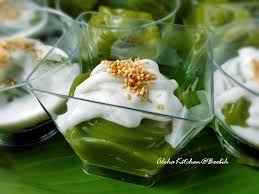kanompiakpoon: (62, 54, 203, 172)
